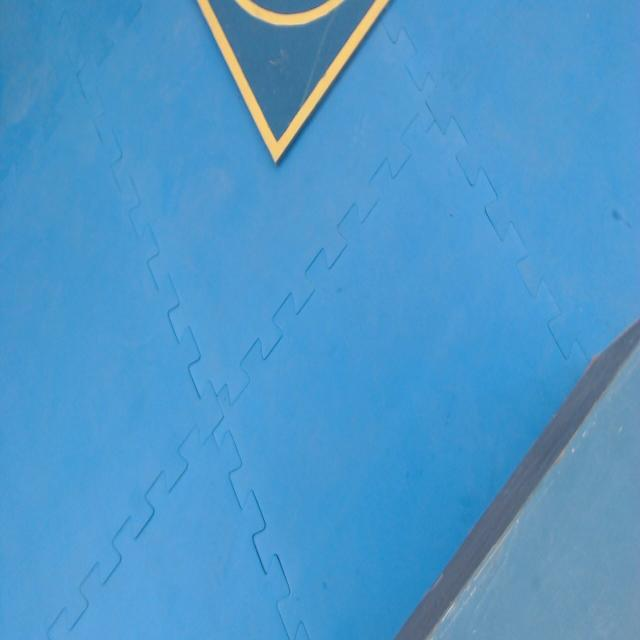base_pouso: (199, 0, 391, 161)
